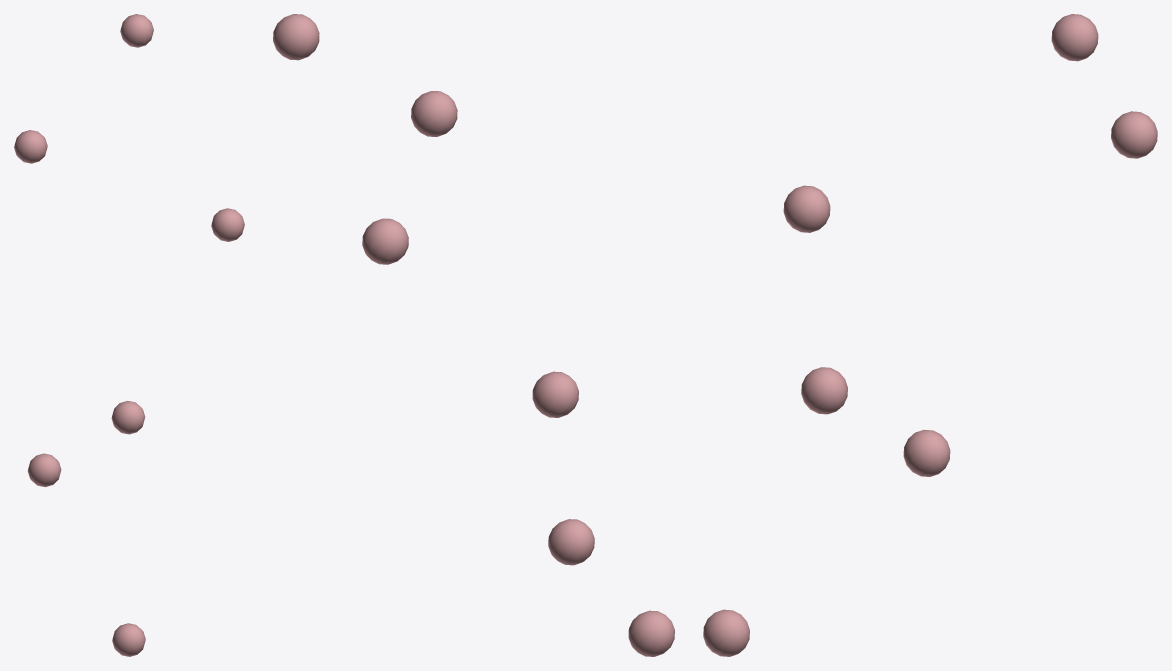
3 renders of one model, left to right at view 1: azimuth 30°, elevation 25°; view 2: azimuth 150°, elevation 25°; view 3: azimuth 270°, elevation 25°, orthographic. The views are drawn at different scales.
Parts seen in each view (by area): view 1: ZA_589c6570b863e938; view 2: ZA_589c6570b863e938; view 3: ZA_589c6570b863e938.
Part boxes in pixels (box(x1,y1,x2,y2)): ZA_589c6570b863e938: box(14, 14, 244, 656); ZA_589c6570b863e938: box(273, 14, 674, 656); ZA_589c6570b863e938: box(703, 14, 1157, 656).
Size of the model in its own units: 0.0155 by 0.0438 by 0.0248.
